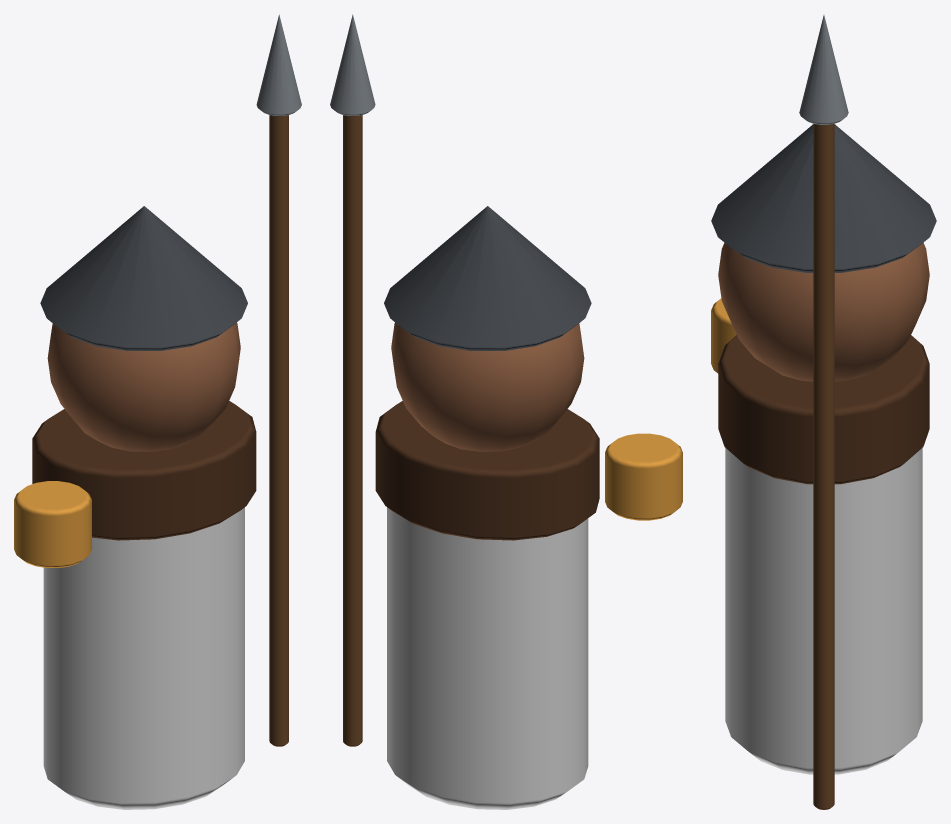
Rendered from watchman.20812b85.glb.
3 renders of one model, left to right at view 1: azimuth 30°, elevation 25°; view 2: azimuth 150°, elevation 25°; view 3: azimuth 270°, elevation 25°, orthographic. The views are drawn at different scales.
Visible parts, largest first — view 1: body, accent; view 2: body, accent; view 3: body, accent.
Boxes of the visible parts, box(x1,y1,x2,y2) form: body: box(14, 14, 301, 746); accent: box(43, 507, 244, 809); body: box(330, 14, 682, 746); accent: box(387, 507, 588, 809); body: box(711, 15, 936, 809); accent: box(725, 448, 922, 774).
Bounding box in the file's own units: 0.5536 × 1.24 × 0.32.
